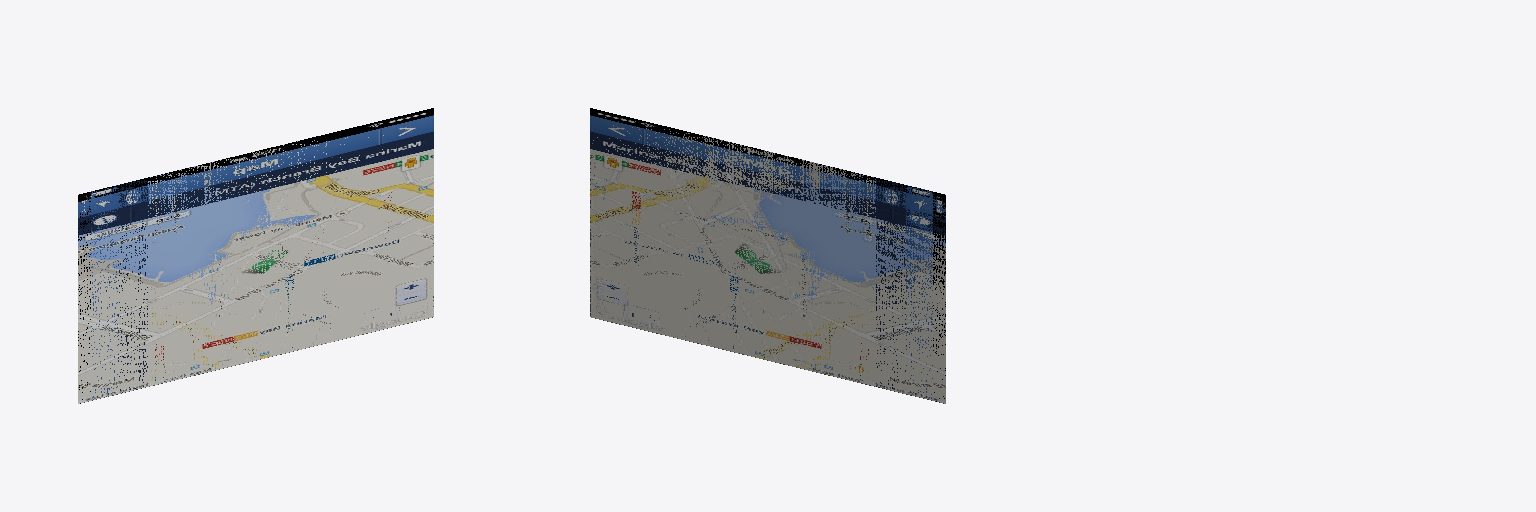
3 views of the same model, side by side, from view 1: azimuth 30°, elevation 25°; view 2: azimuth 150°, elevation 25°; view 3: azimuth 270°, elevation 25° (orthographic).
Visible parts, largest first — view 1: Cube; view 2: Cube; view 3: none.
Boxes of the visible parts, x1,y1,x2,y2 form: Cube: [78, 108, 433, 403]; Cube: [590, 108, 945, 403].
Bounding box in the file's own units: 9.67 × 5.44 × 0.
1 materials, 1 textured.